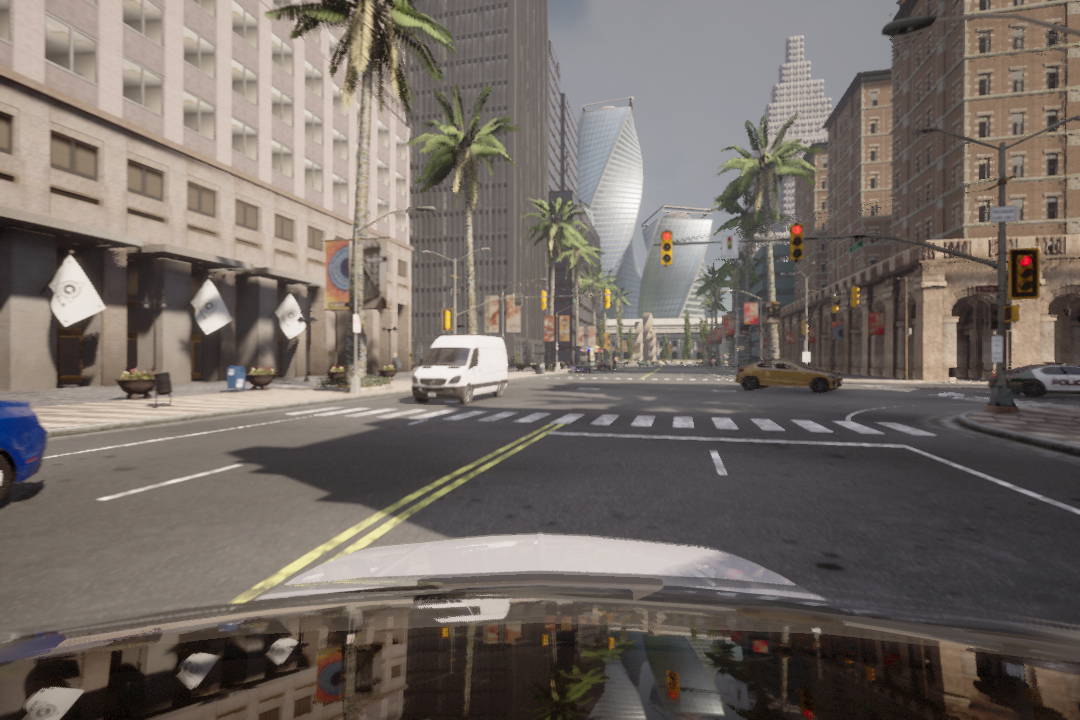TrafficLight: (1007, 250, 1040, 299), (789, 223, 807, 263), (658, 227, 675, 269)
walkside: (283, 398, 939, 441)
